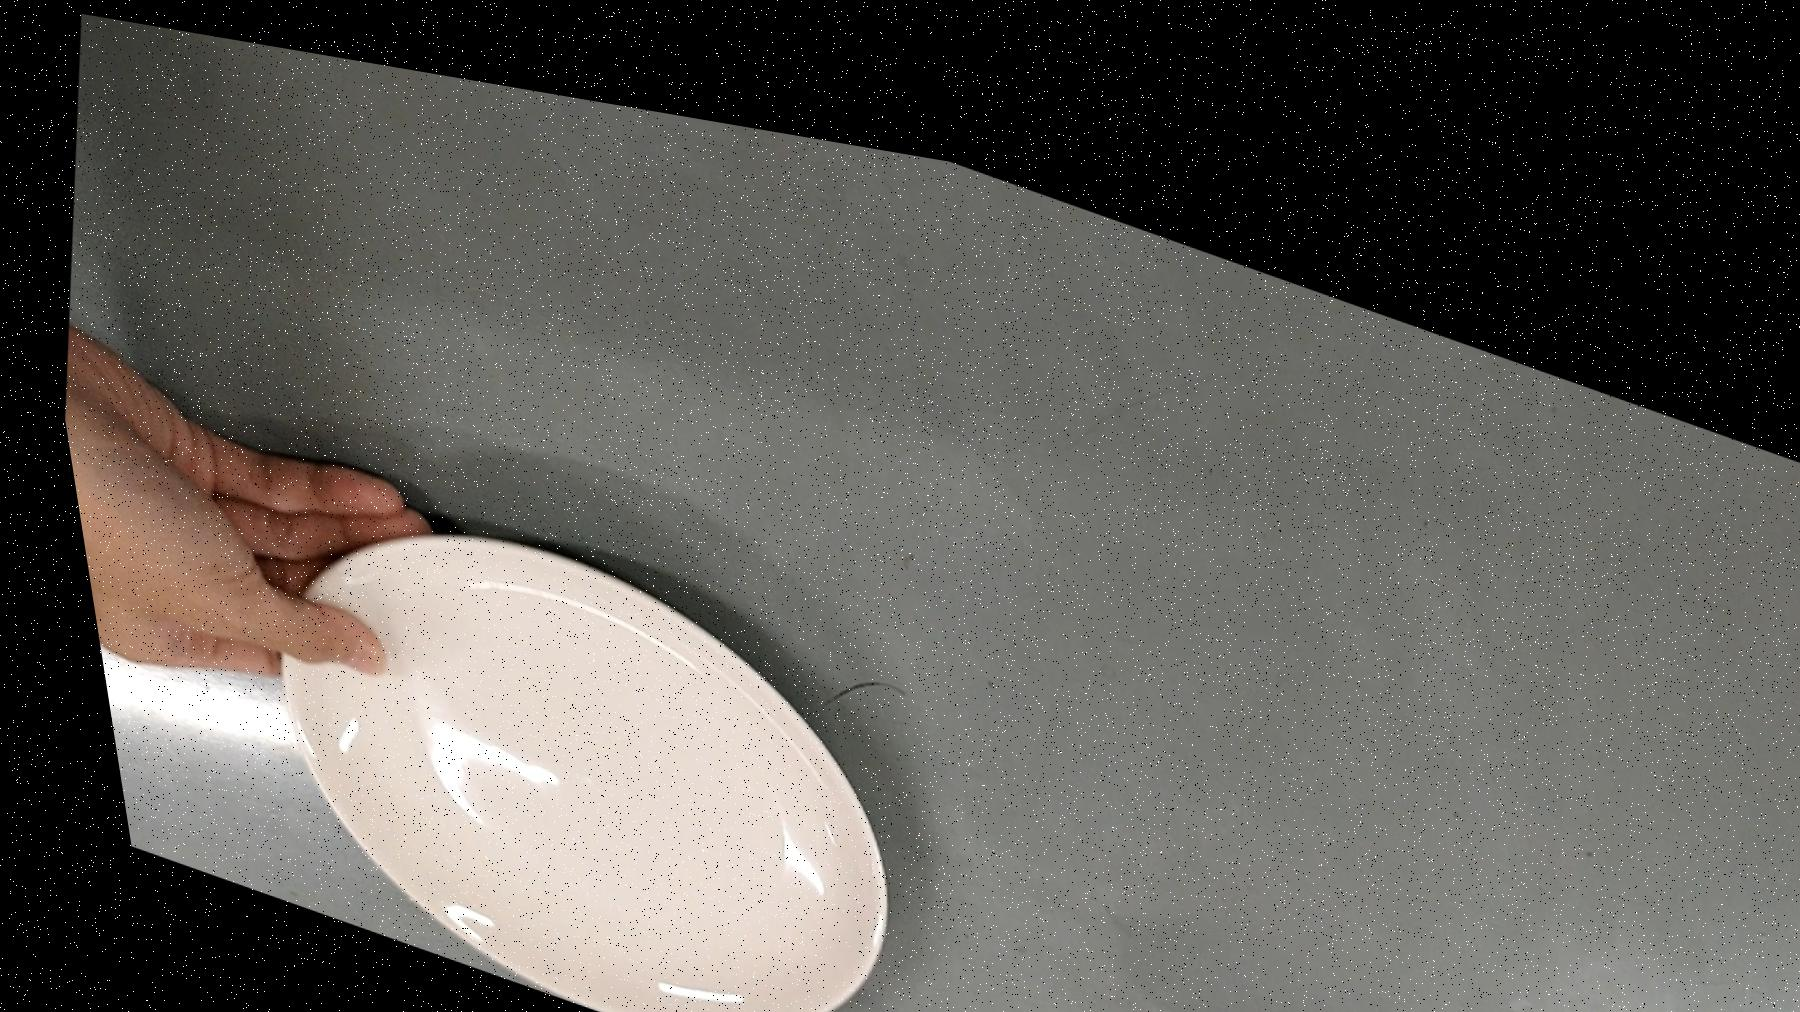plate: (182, 431, 938, 1012)
